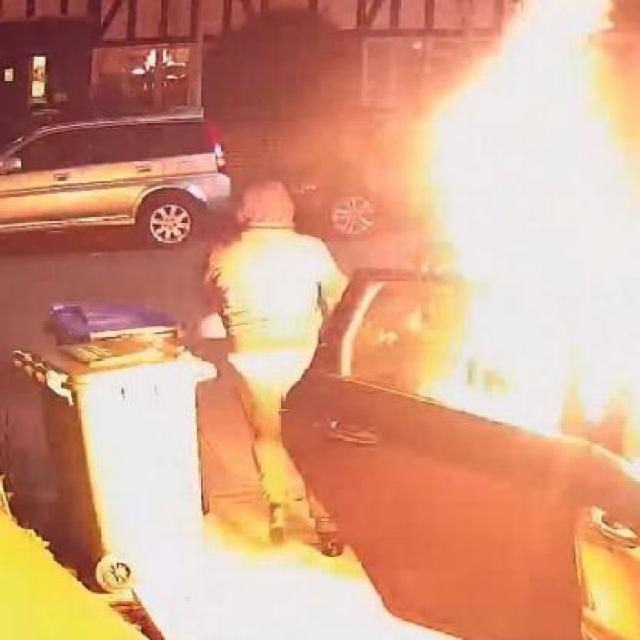Fire: (436, 83, 638, 412), (475, 34, 603, 112), (519, 0, 615, 40), (417, 114, 448, 192), (492, 406, 556, 434)
